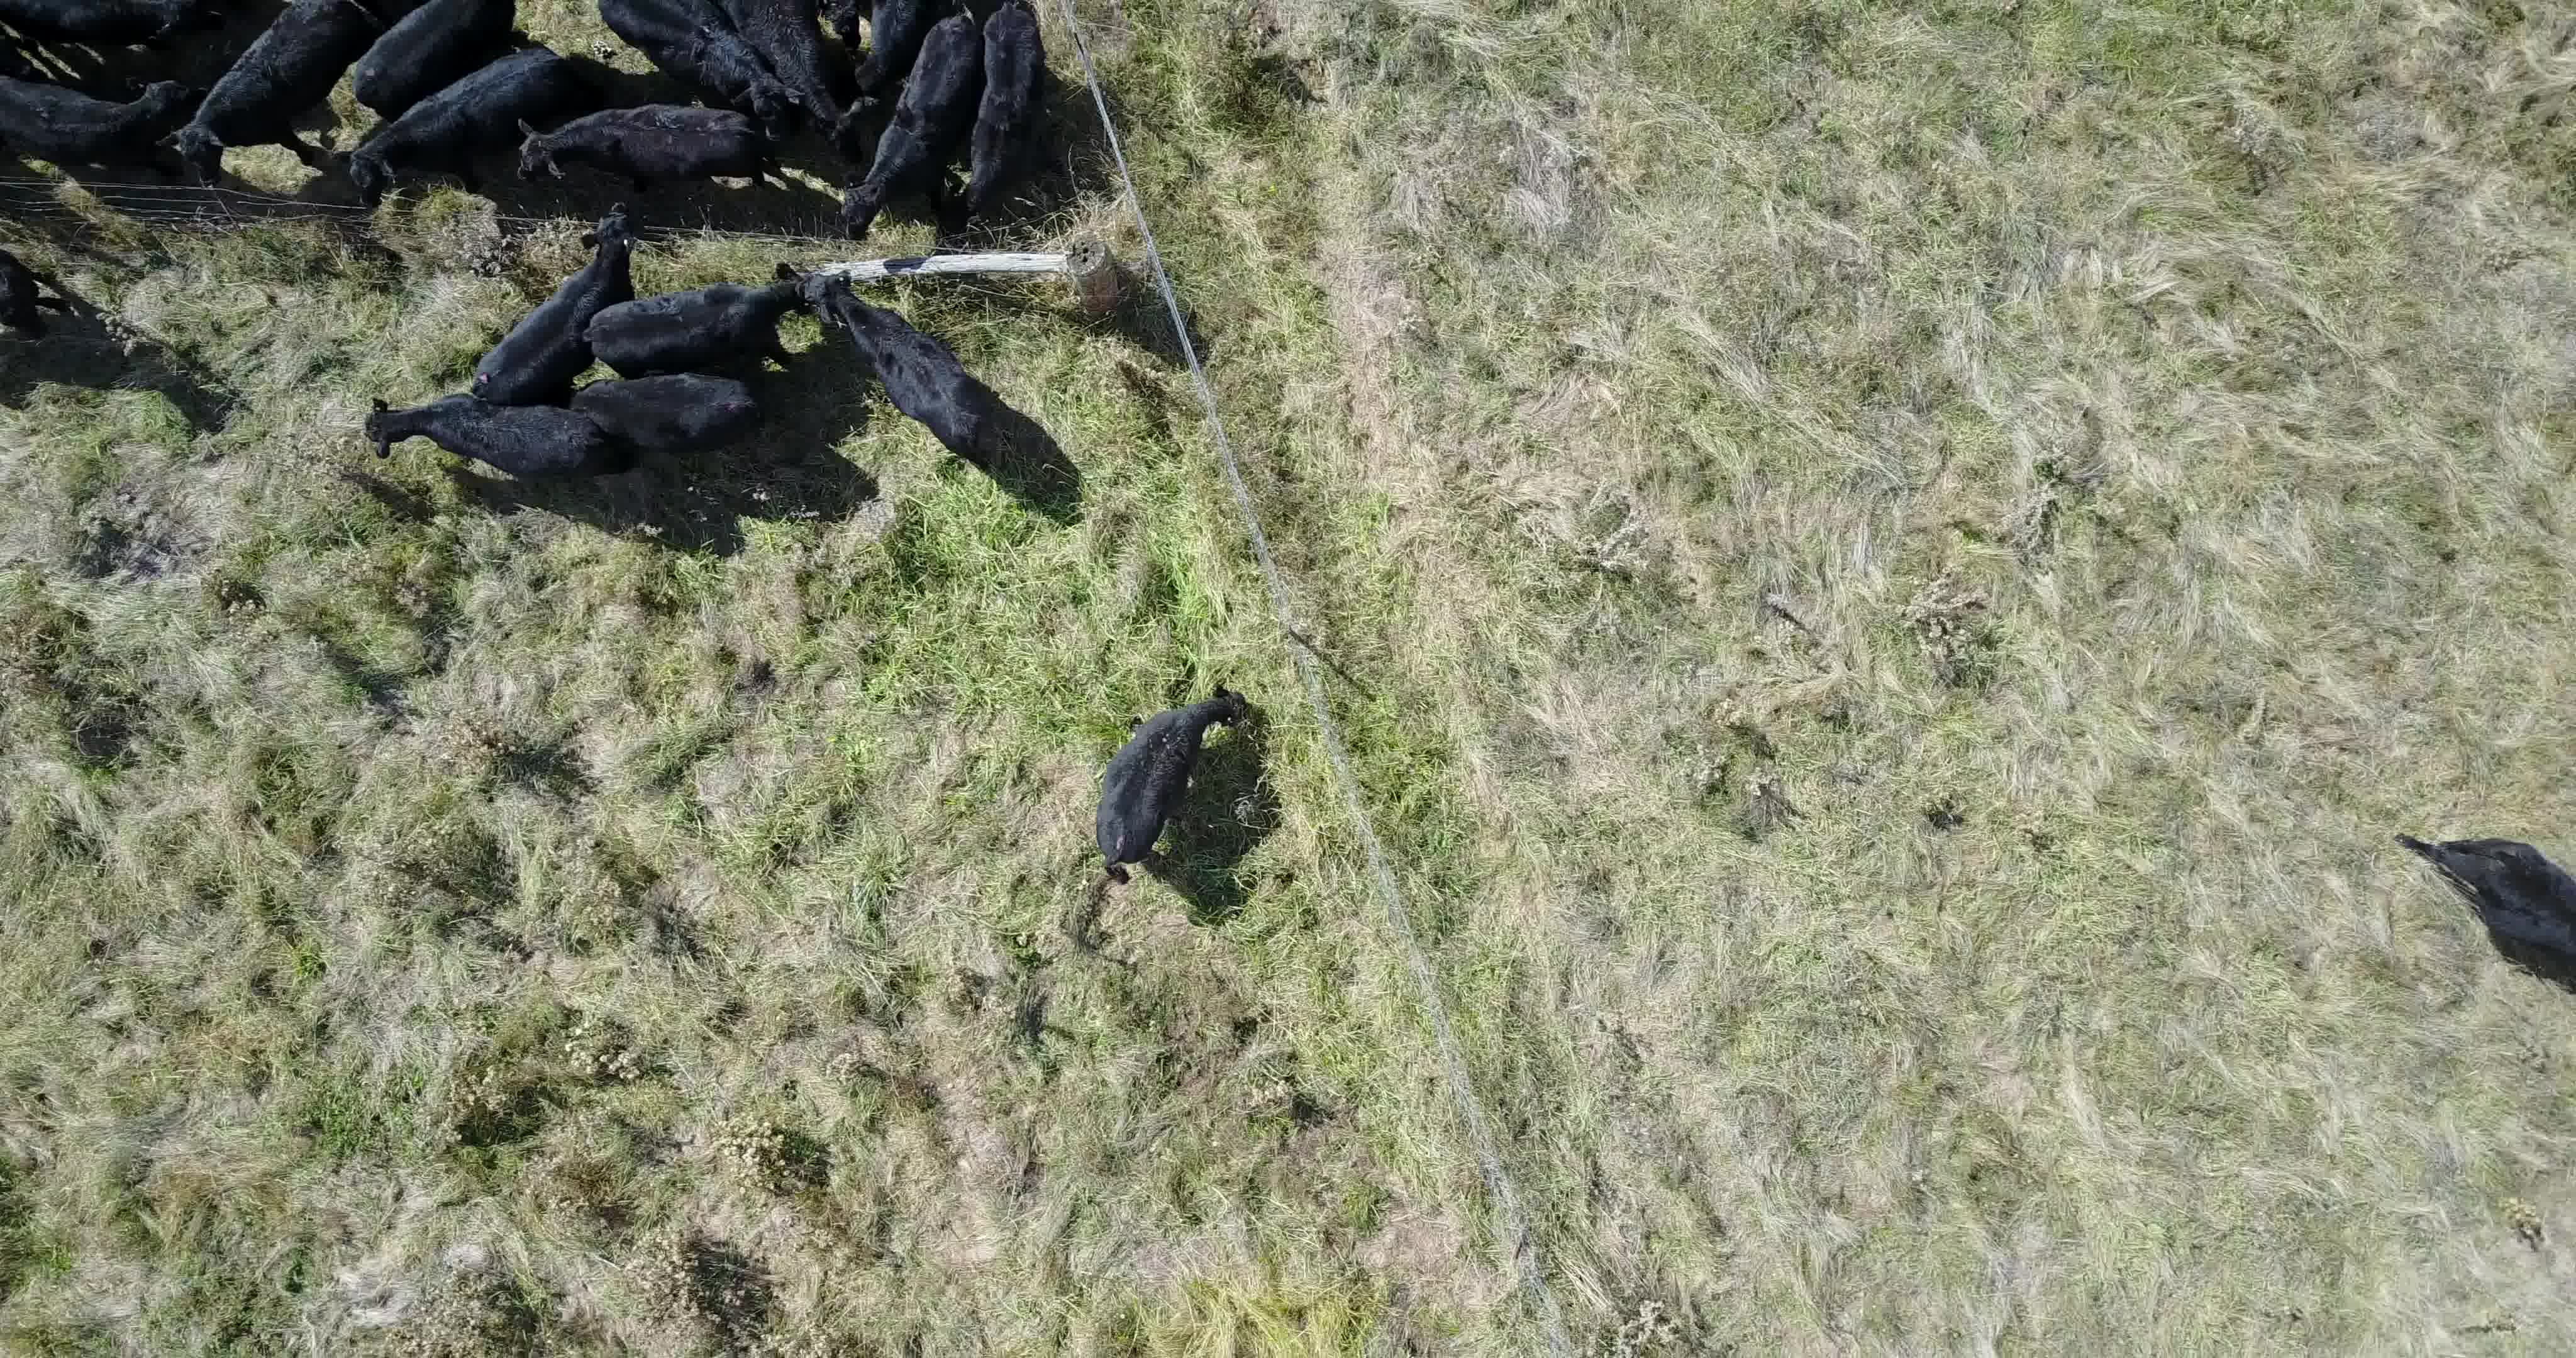cattle: (808, 262, 998, 470), (1077, 680, 1257, 886), (160, 3, 363, 182), (504, 89, 763, 216), (840, 5, 976, 247), (339, 51, 557, 201), (469, 213, 632, 411), (591, 2, 811, 128), (584, 264, 811, 385), (358, 388, 601, 486), (3, 66, 174, 193), (726, 2, 869, 147), (961, 2, 1051, 227), (341, 3, 526, 97), (572, 368, 760, 455)
